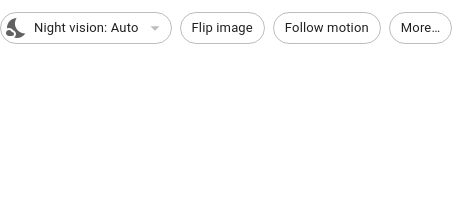
Test: SettingsChips › night vision menu offers Auto / On / Off and marks the current one
Later steps or results of the test are not shown.
Click the button "Night vision: Auto". click: coordinates (86, 28)
box: [0,12,172,44]
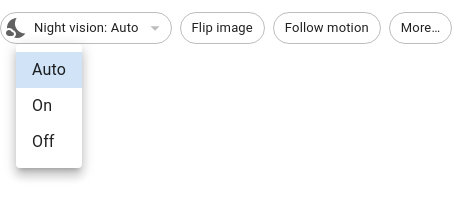
Check: the menu items read "Auto", "On", "Off", in this order, box [16,52,82,88]; [32,96,52,115]; [32,132,55,151]
